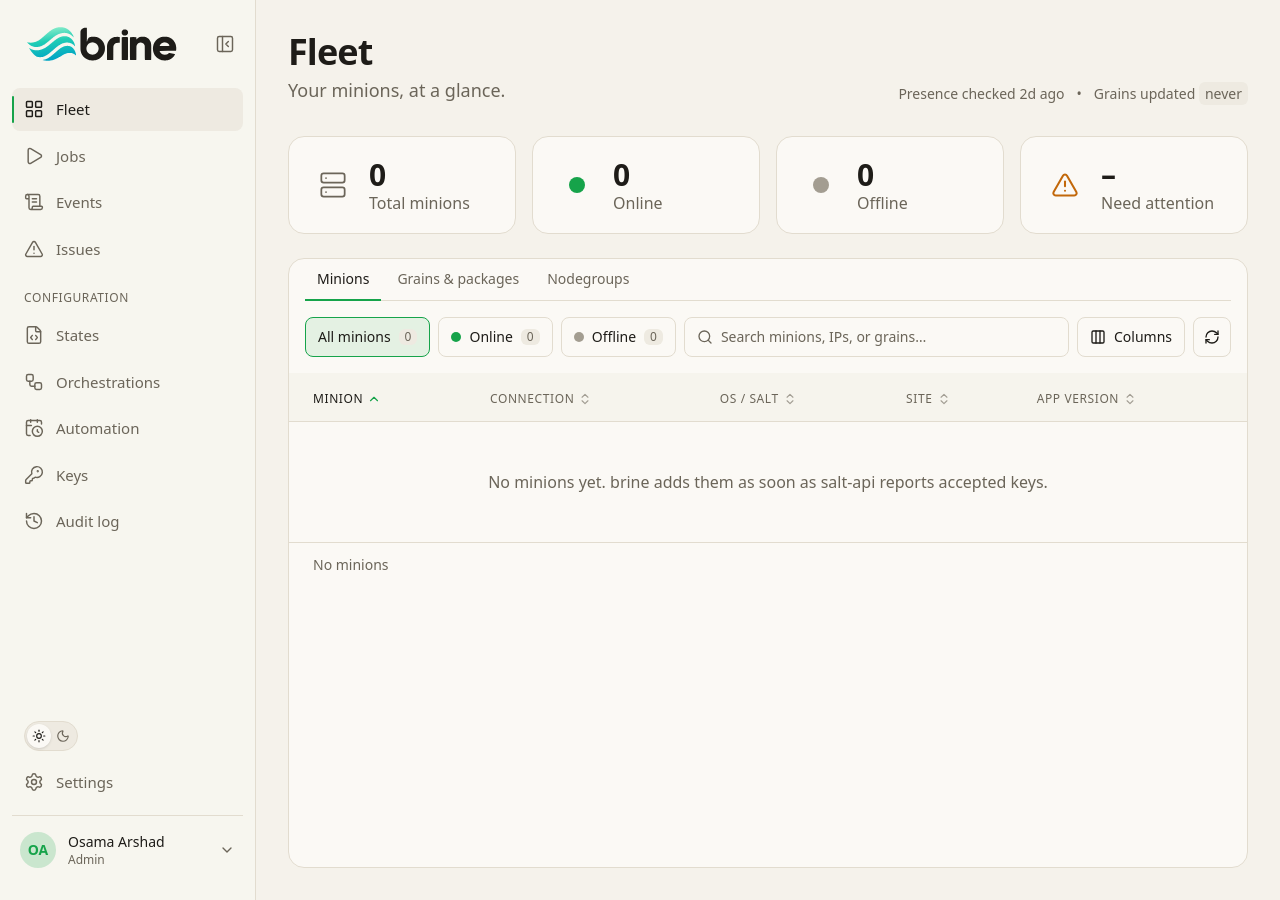
Test case: signed in › shows who you are at the bottom of the sidebar
What coordinates should you click on to do the following:
click the button with aria-label "Account: Osama Arshad"
I would click on:
 (128, 850)
Its box is [12,824,243,876].
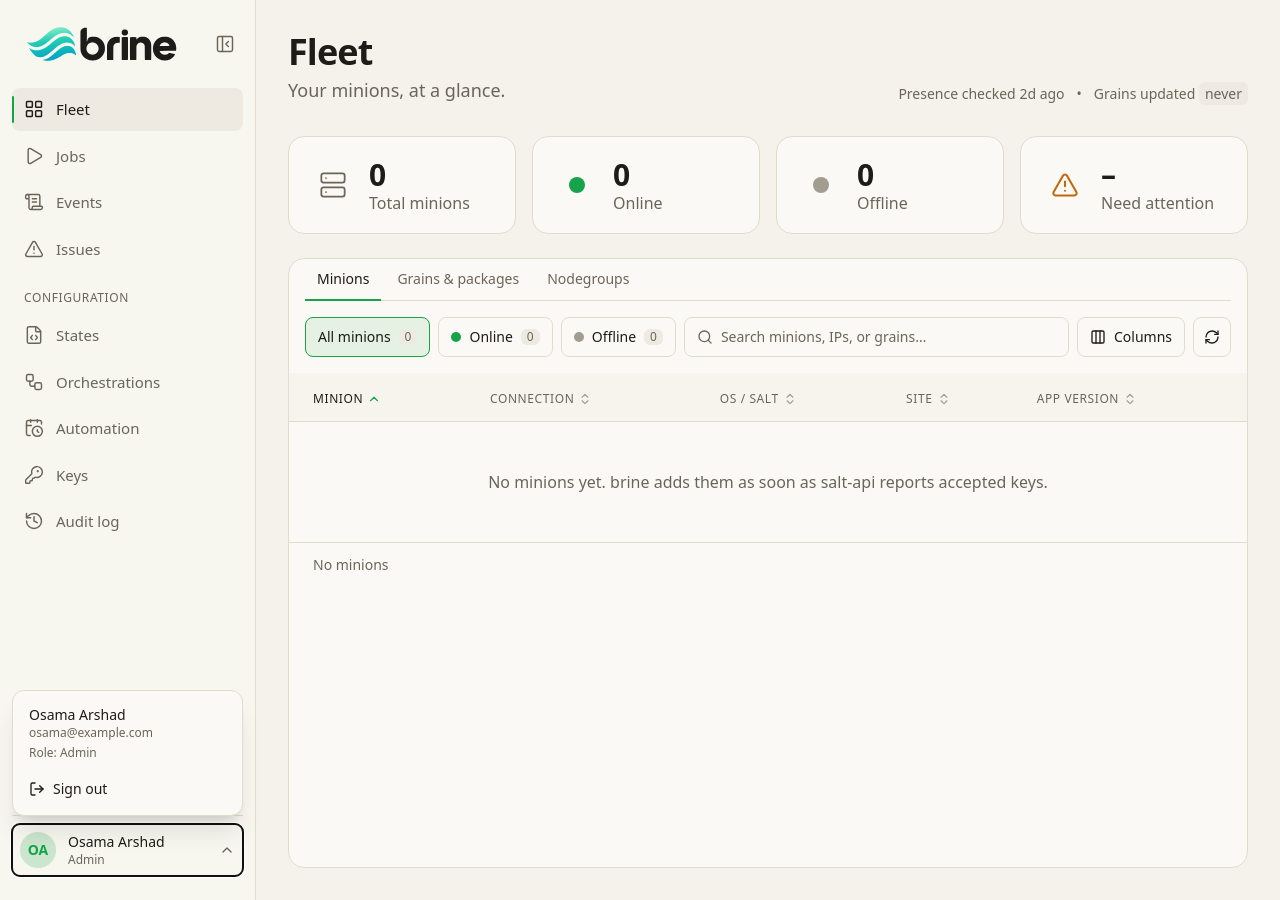
Now the text "osama@example.com" is shown, box [29,724,153,741]
Now the menu item "Sign out" is shown, box [21,771,234,807]
